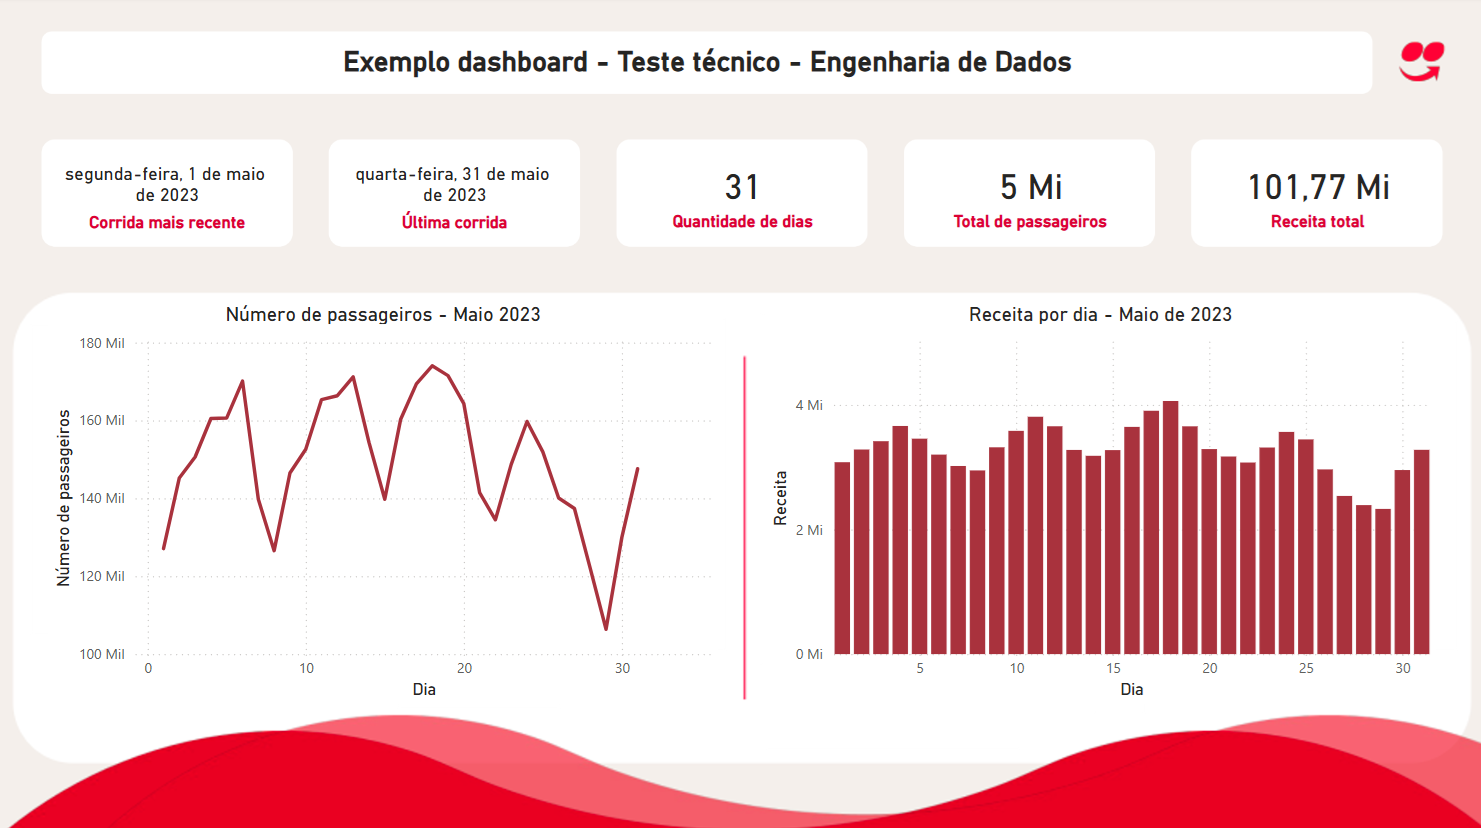

This screenshot's page, from the dashboard's own definition file:
{"tool":"powerbi","page":{"name":"Página 1","canvas":[1280,720],"ordinal":0},"visuals":[{"type":"textbox","box":[41.7,37.2,1137.6,39.9],"z":0},{"type":"card","fields":{"Values":["Max(Tabela1.data_corrida)"]},"box":[289.1,128.6,206.6,82.5],"z":1000},{"type":"card","fields":{"Values":["Min(Tabela1.data_corrida)"]},"box":[40.8,128.6,207.5,82.5],"z":2000},{"type":"card","fields":{"Values":["Count(Tabela1.data_corrida)"]},"box":[537.3,128.6,206.6,82.5],"z":3000},{"type":"card","fields":{"Values":["Sum(Tabela1.total_passageiros)"]},"box":[784.7,128.6,207.5,82.5],"z":4000},{"type":"card","fields":{"Values":["Sum(Tabela1.total_receita)"]},"box":[1033,128.6,206.6,82.5],"z":5000},{"type":"lineChart","title":"Número de passageiros - Maio 2023","fields":{"Category":["Tabela1.data_corrida.Variation.Hierarquia de datas.Dia"],"Y":["Sum(Tabela1.total_passageiros)"]},"box":[41.7,263.3,578.1,346.7],"z":6000},{"type":"columnChart","title":"Receita por dia - Maio de 2023","fields":{"Category":["Tabela1.data_corrida.Variation.Hierarquia de datas.Dia"],"Y":["Sum(Tabela1.total_receita)"]},"box":[659.7,263.3,579,346.7],"z":7000}]}

Visuals, with their boxes in screenshot pixels (x1, y1, x2, y2), scaled from the page's 1280x720 canvas onto the 1481x828 screenshot:
textbox: l=48, t=43, r=1364, b=89
card - Max(Tabela1.data_corrida): l=334, t=148, r=574, b=243
card - Min(Tabela1.data_corrida): l=47, t=148, r=287, b=243
card - Count(Tabela1.data_corrida): l=622, t=148, r=861, b=243
card - Sum(Tabela1.total_passageiros): l=908, t=148, r=1148, b=243
card - Sum(Tabela1.total_receita): l=1195, t=148, r=1434, b=243
"Número de passageiros - Maio 2023" lineChart: l=48, t=303, r=717, b=702
"Receita por dia - Maio de 2023" columnChart: l=763, t=303, r=1433, b=702
